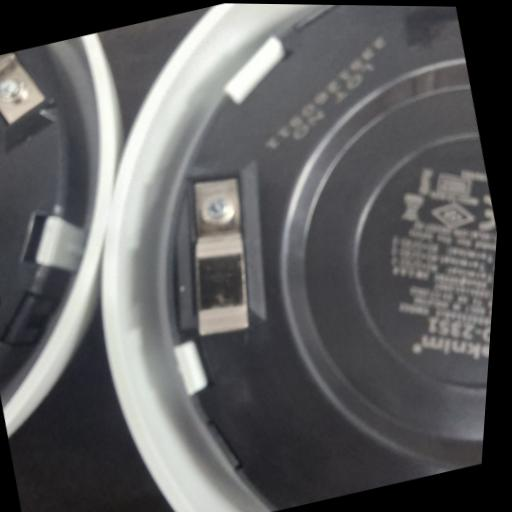yaysiz: (159, 168, 277, 344)
